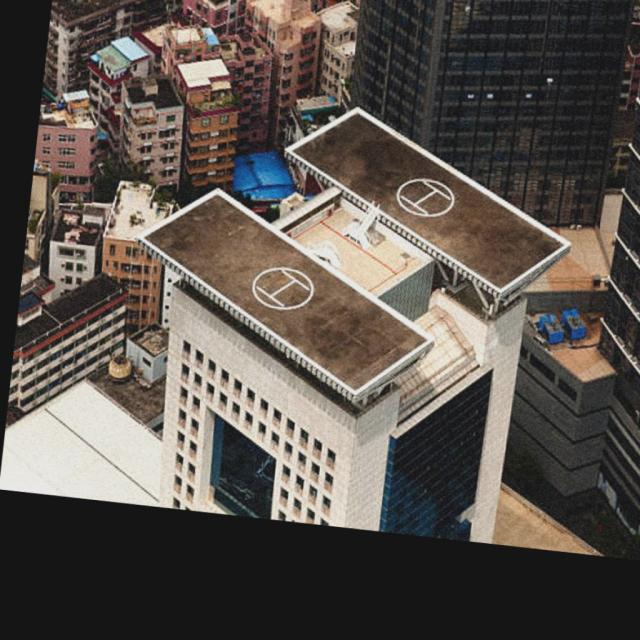helipad: (248, 265, 314, 310), (394, 175, 455, 218)
